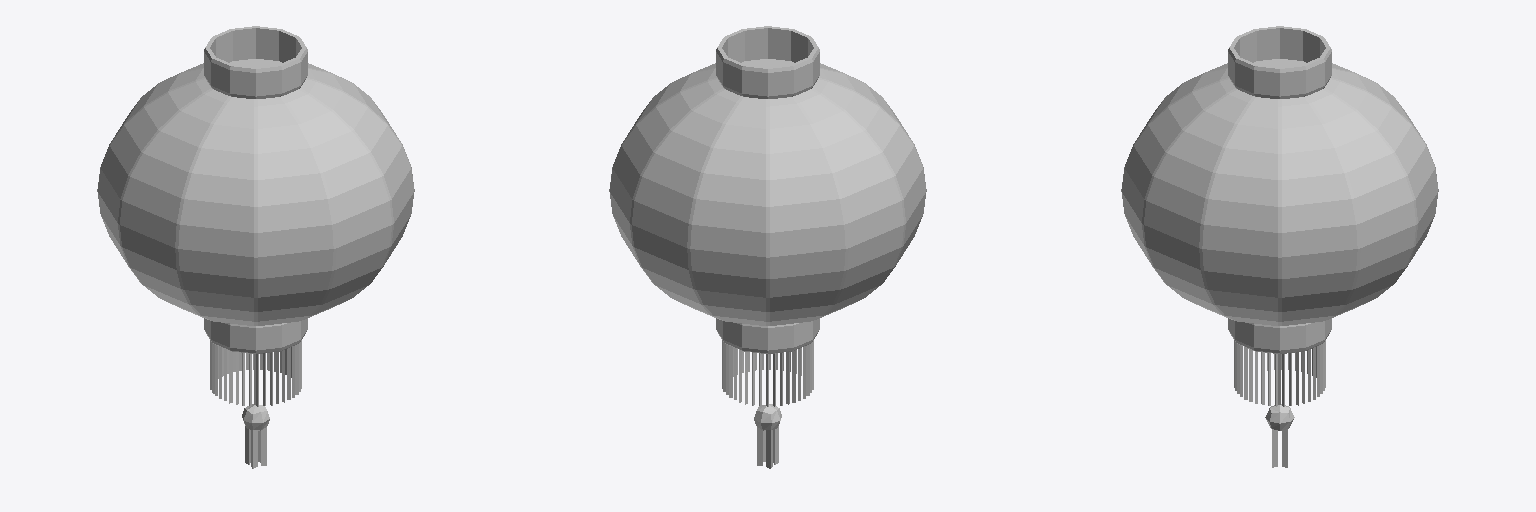
File: lantern_chinese.sgm.obj
The picture shows the model from 3 angles: view 1: azimuth 30°, elevation 25°; view 2: azimuth 150°, elevation 25°; view 3: azimuth 270°, elevation 25°; orthographic projection.
Size of the model in its own units: 0.5501 by 0.7979 by 0.5501.